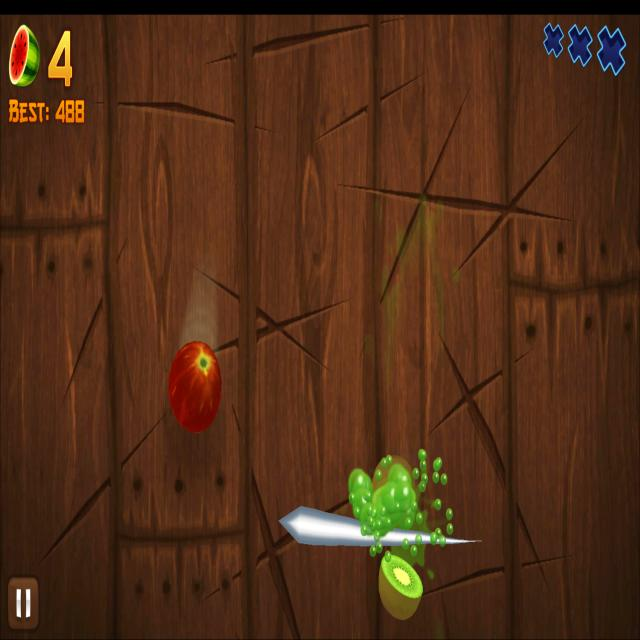fruit: (168, 340, 222, 434)
